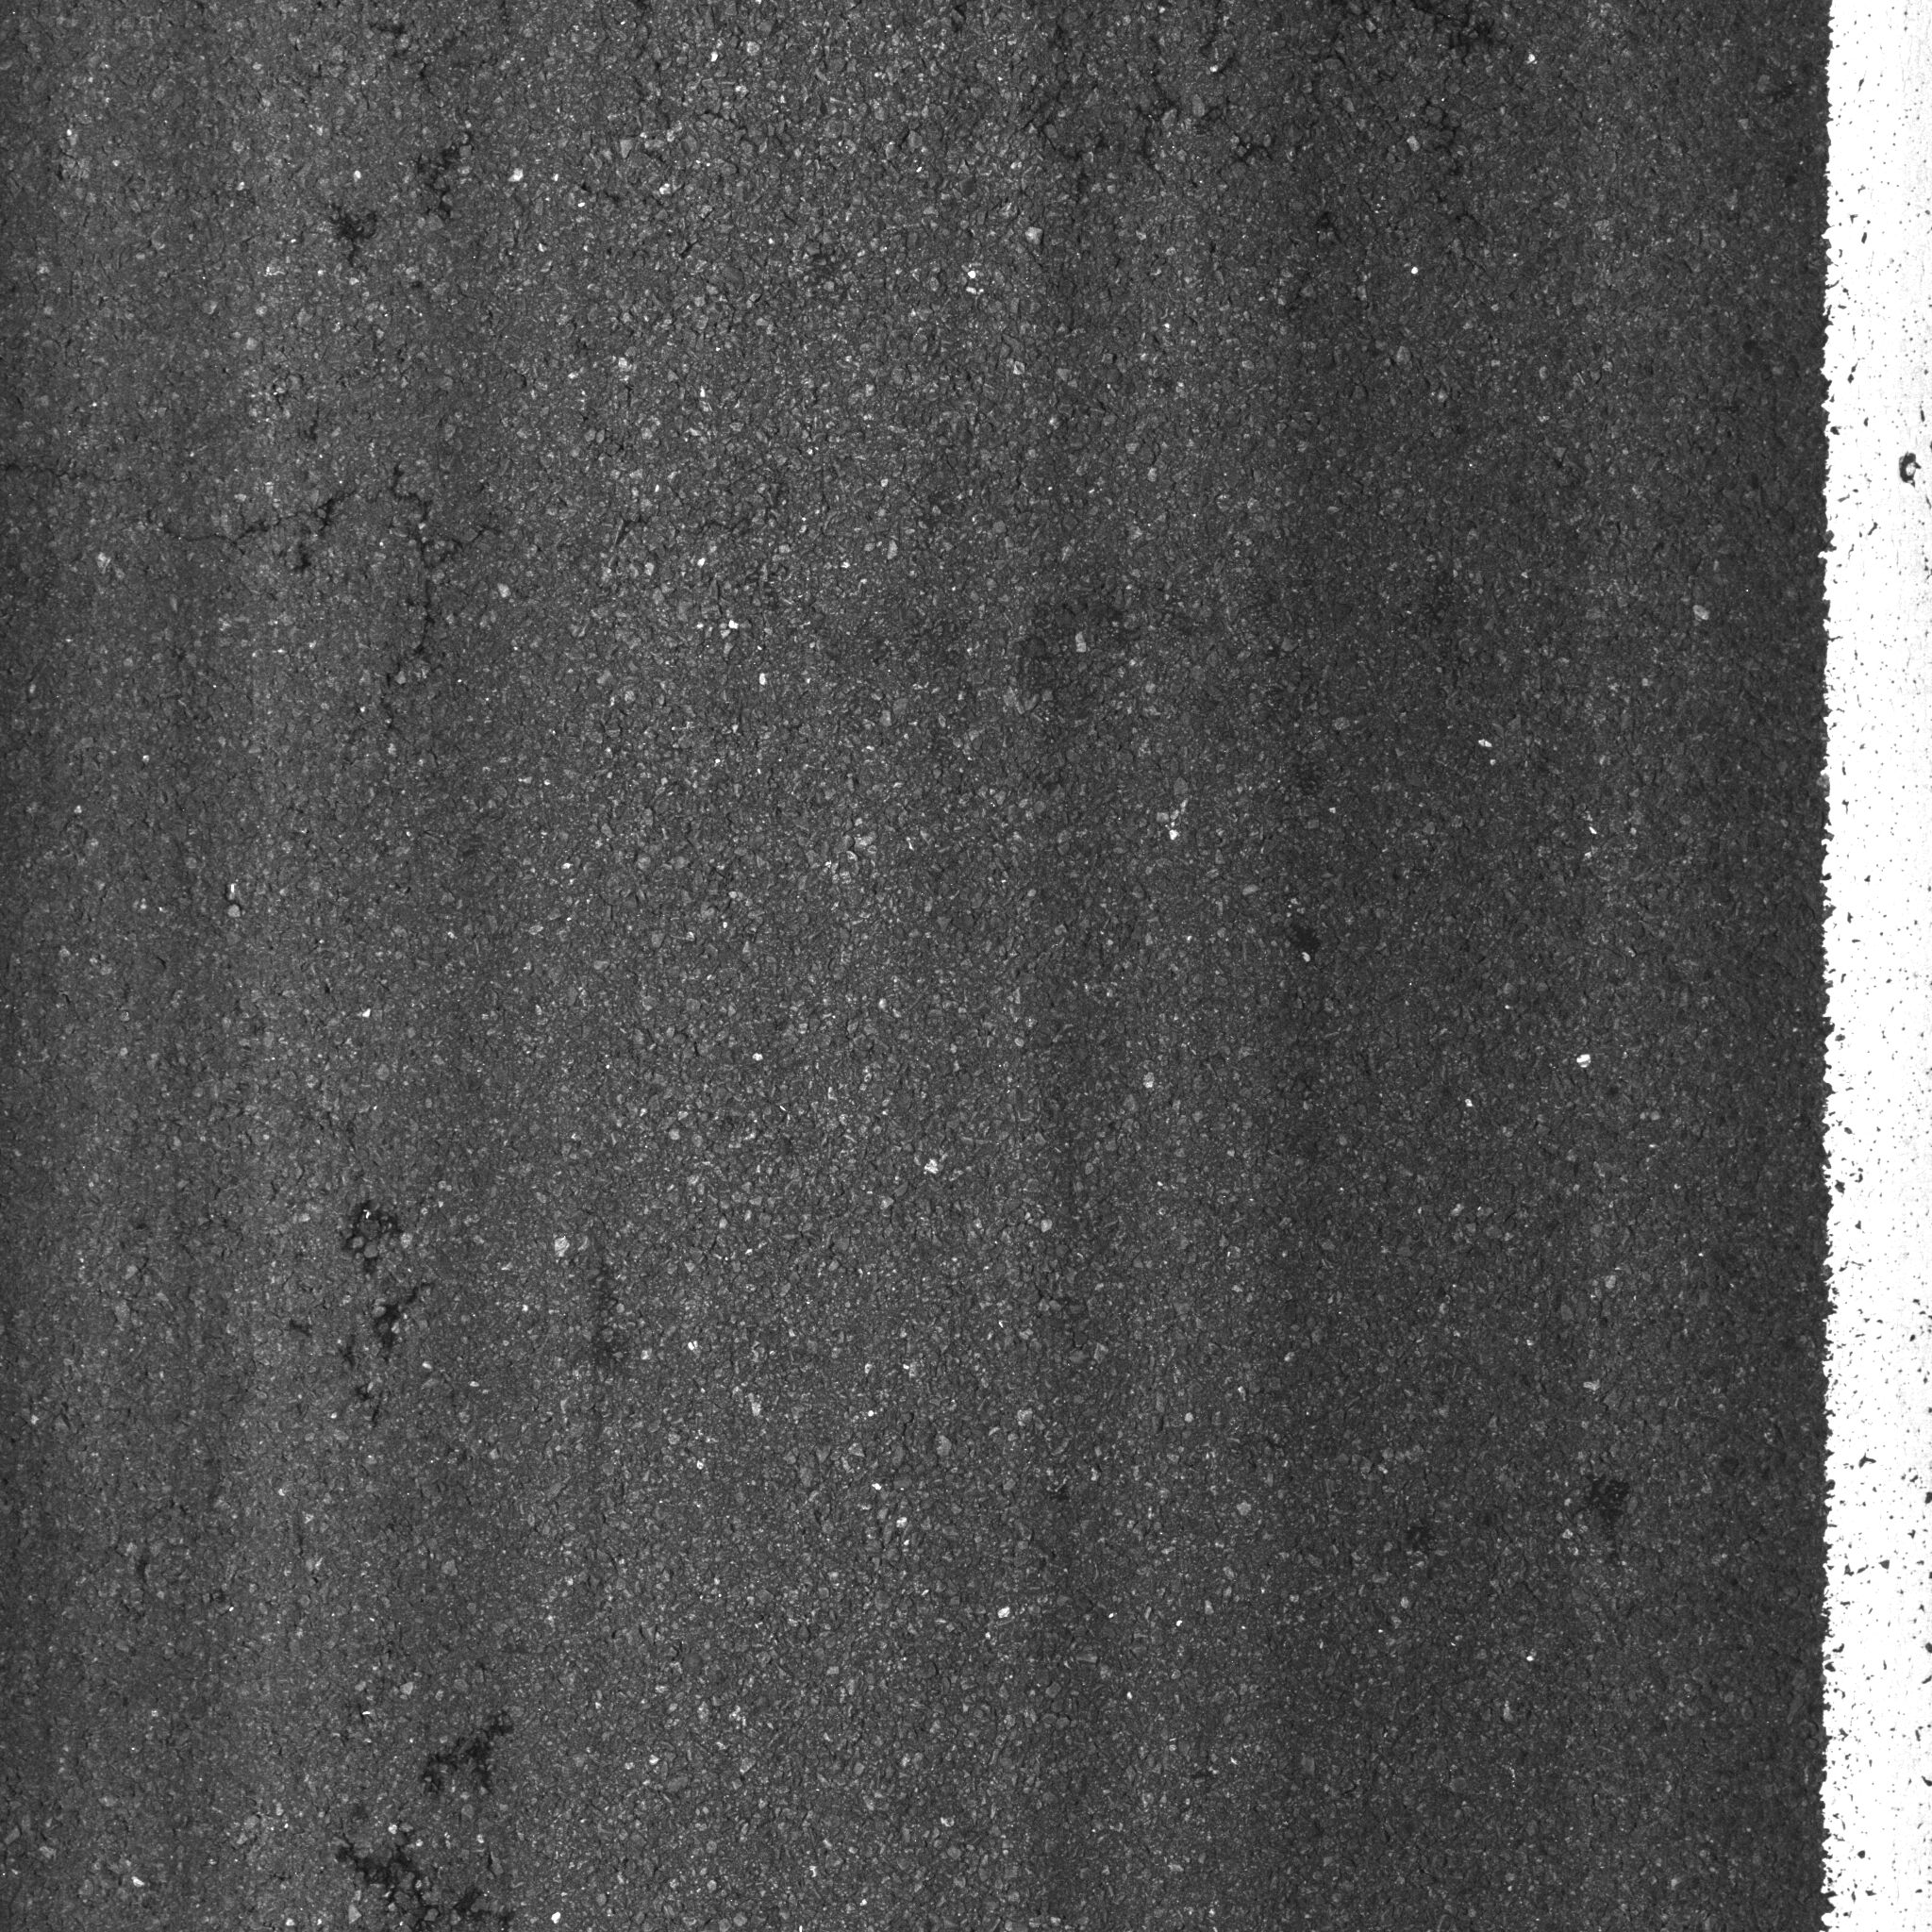alligator: (4, 387, 663, 778)
